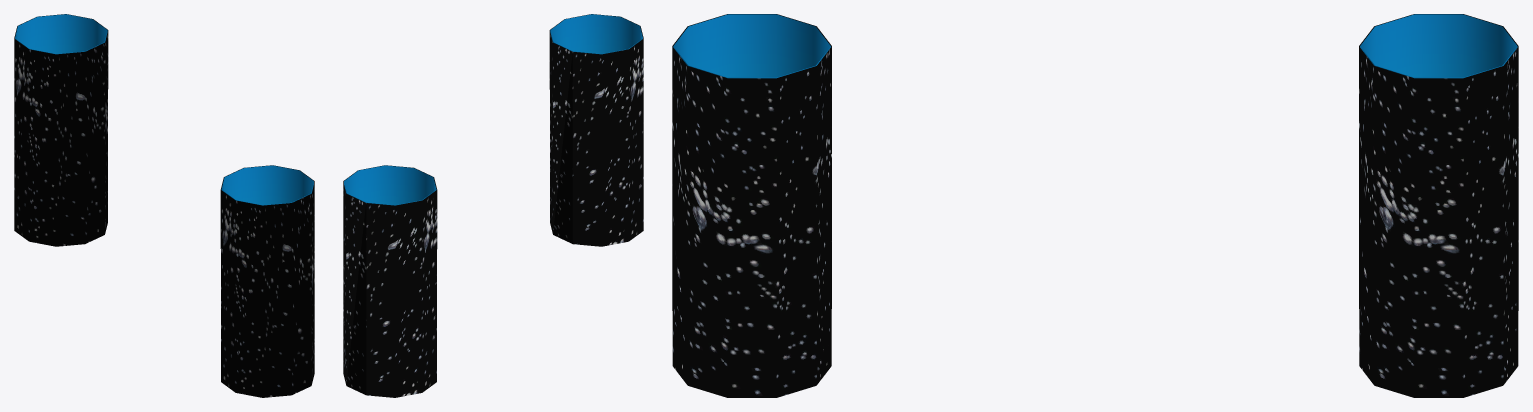
File: stg610_MotTank_20.obj
3 renders of one model, left to right at view 1: azimuth 30°, elevation 25°; view 2: azimuth 150°, elevation 25°; view 3: azimuth 270°, elevation 25°, orthographic. The views are drawn at different scales.
Parts seen in each view (by area): view 1: polygon2, polygon0, polygon1, polygon3; view 2: polygon0, polygon2, polygon3, polygon1; view 3: polygon0, polygon2, polygon3, polygon1.
Part boxes in pixels (x1,y1,x2,y2): polygon2: [220, 165, 314, 397]; polygon0: [14, 14, 108, 246]; polygon1: [15, 14, 107, 54]; polygon3: [221, 165, 313, 205]; polygon0: [343, 165, 437, 397]; polygon2: [549, 14, 643, 246]; polygon3: [550, 14, 642, 54]; polygon1: [344, 165, 436, 205]; polygon0: [1359, 14, 1518, 397]; polygon2: [672, 14, 831, 397]; polygon3: [673, 14, 830, 78]; polygon1: [1360, 14, 1517, 78].
Size of the model in its own units: 18.06 by 41.97 by 101.
2 materials, 2 textured.
